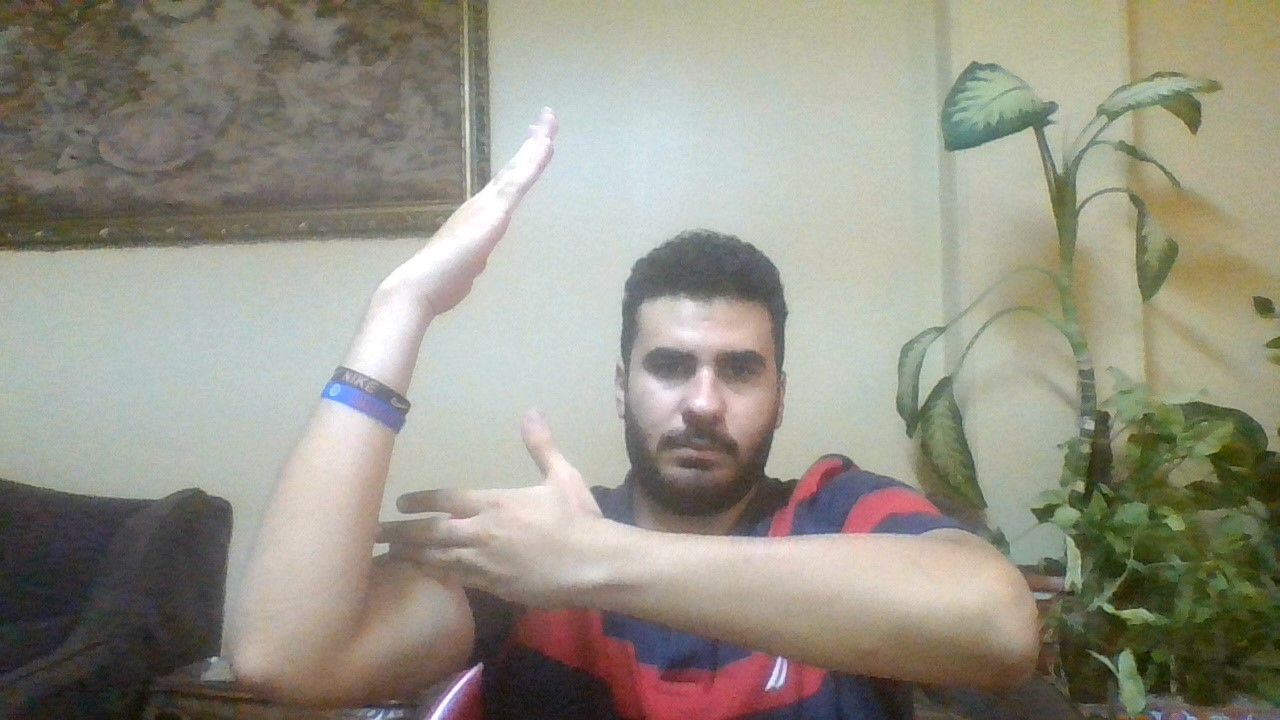morning: (366, 63, 606, 645)
